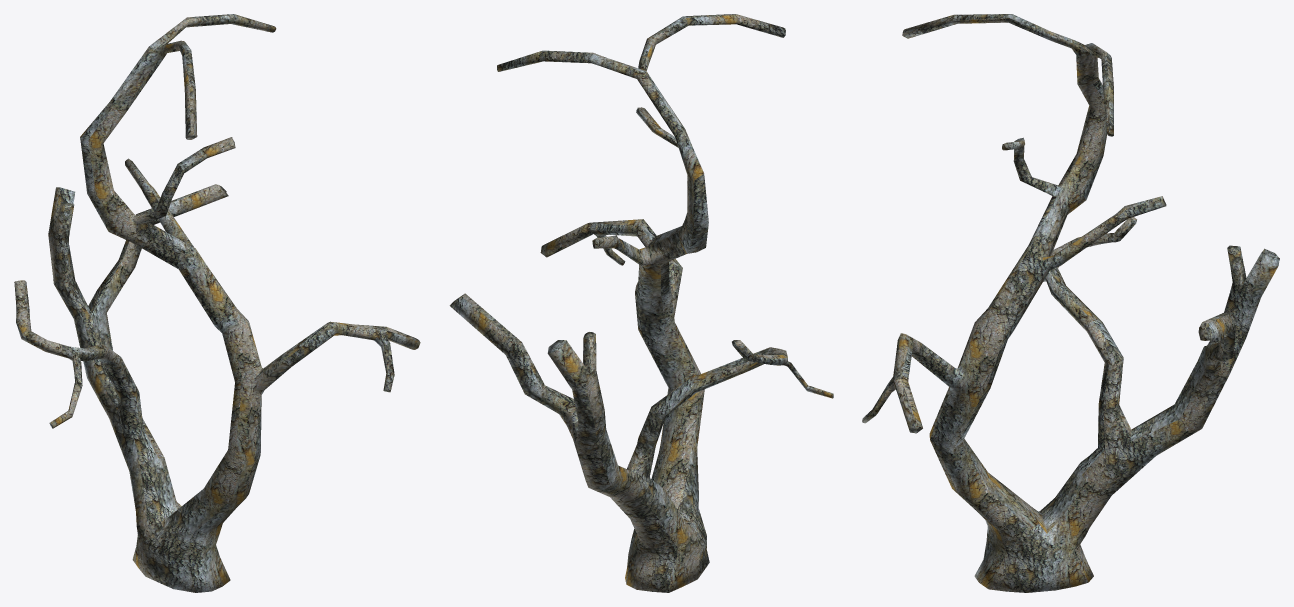
Rendered from tree003.obj.
3 views of the same model, side by side, from view 1: azimuth 30°, elevation 25°; view 2: azimuth 150°, elevation 25°; view 3: azimuth 270°, elevation 25° (orthographic). The views are drawn at different scales.
Parts seen in each view (by area): view 1: tree003; view 2: tree003; view 3: tree003.
Part boxes in pixels (x1,y1,x2,y2): tree003: [14, 14, 420, 592]; tree003: [449, 14, 833, 592]; tree003: [862, 14, 1279, 592].
Size of the model in its own units: 110 by 172 by 117.
Materials: 1 (1 with a texture image).
